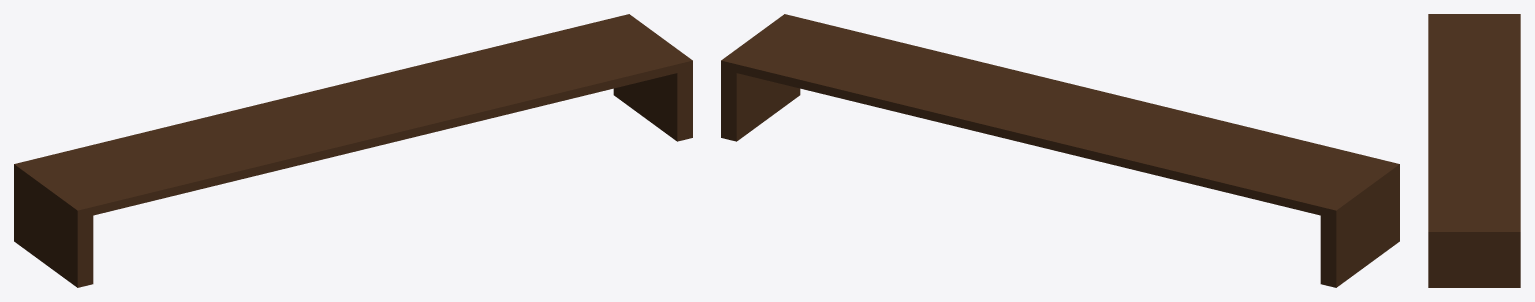
The model's file is Bench.fbx.
3 views of the same model, side by side, from view 1: azimuth 30°, elevation 25°; view 2: azimuth 150°, elevation 25°; view 3: azimuth 270°, elevation 25° (orthographic). The views are drawn at different scales.
Parts seen in each view (by area): view 1: Bench; view 2: Bench; view 3: Bench.
Boxes of the visible parts, left/top/right/bottom form: Bench: left=14, top=14, right=692, bottom=287; Bench: left=721, top=14, right=1399, bottom=287; Bench: left=1428, top=14, right=1520, bottom=287.
Bounding box in the file's own units: 1060 × 127 × 190.
